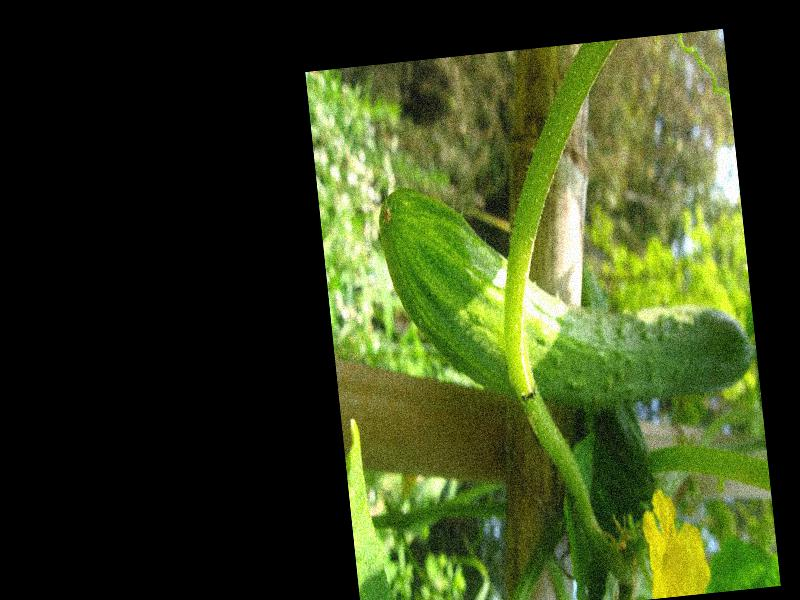Cucumber: (375, 157, 757, 427)
